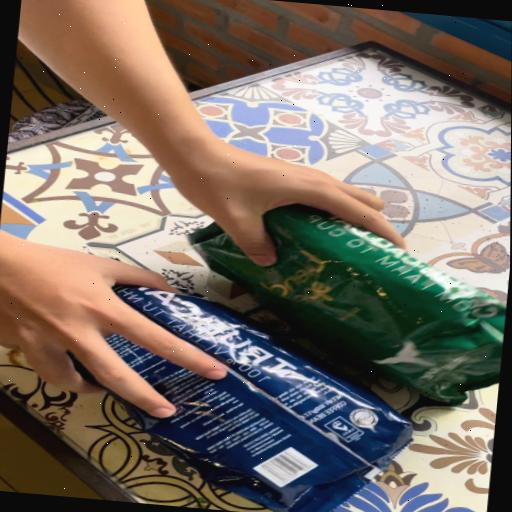cafe_hat: (105, 285, 413, 512)
cafe_xay: (189, 205, 507, 405)
